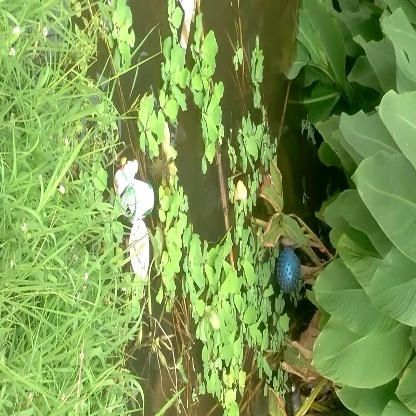ball: (272, 238, 310, 310)
bottle: (118, 171, 167, 226)
